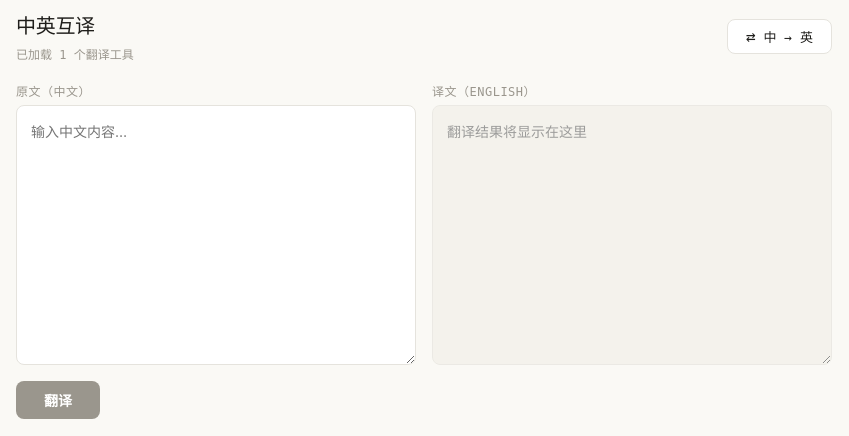
Test: <CastTranslationPage /> › toggles translation direction
The width and height of the screenshot is (849, 436).
Click the button "⇄ 中 → 英": point(779, 36) left=727, top=18, right=832, bottom=54
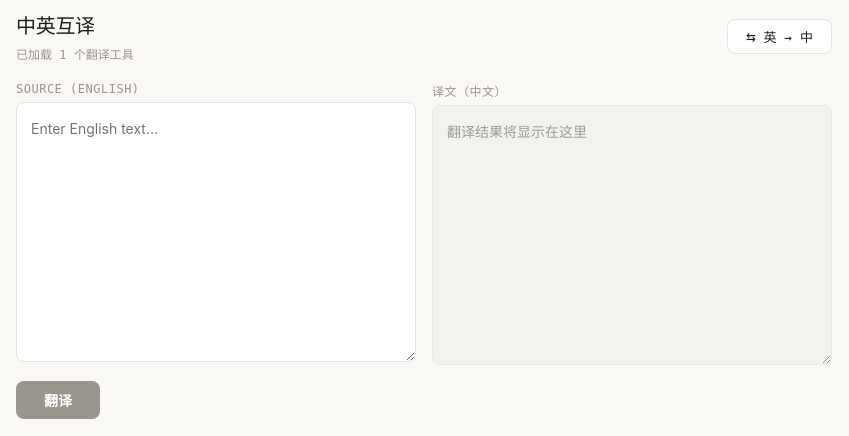
expect the button "⇄ 英 → 中" is shown: met, box left=727, top=18, right=832, bottom=54
